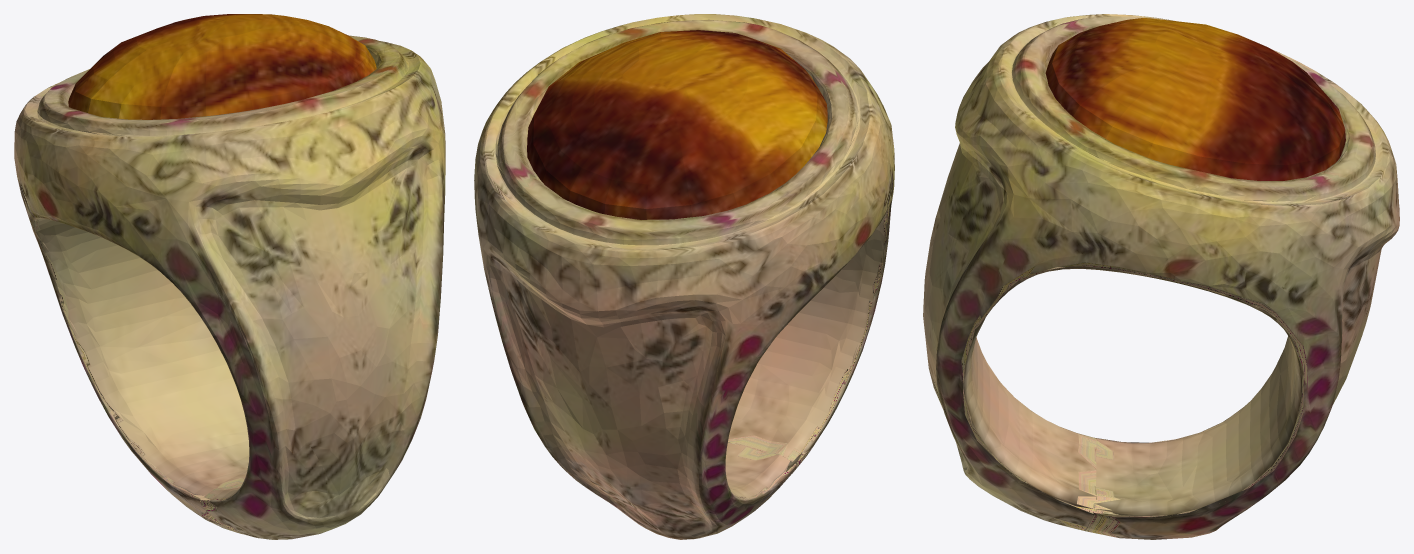
The model's file is RingAntiqueTigerEye.obj.
3 views of the same model, side by side, from view 1: azimuth 30°, elevation 25°; view 2: azimuth 150°, elevation 25°; view 3: azimuth 270°, elevation 25° (orthographic). The views are drawn at different scales.
Visible parts, largest first — view 1: part0; view 2: part0; view 3: part0.
Boxes of the visible parts, <box> form: part0: <box>14,14,445,539</box>; part0: <box>474,14,894,539</box>; part0: <box>923,14,1399,539</box>.
Size of the model in its own units: 0.024 by 0.0297 by 0.0263.
1 material, 1 textured.
